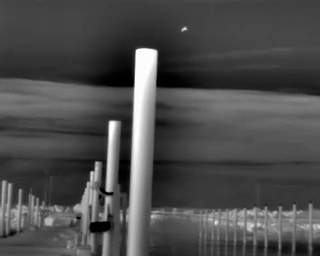BIRD: (179, 24, 190, 34)
